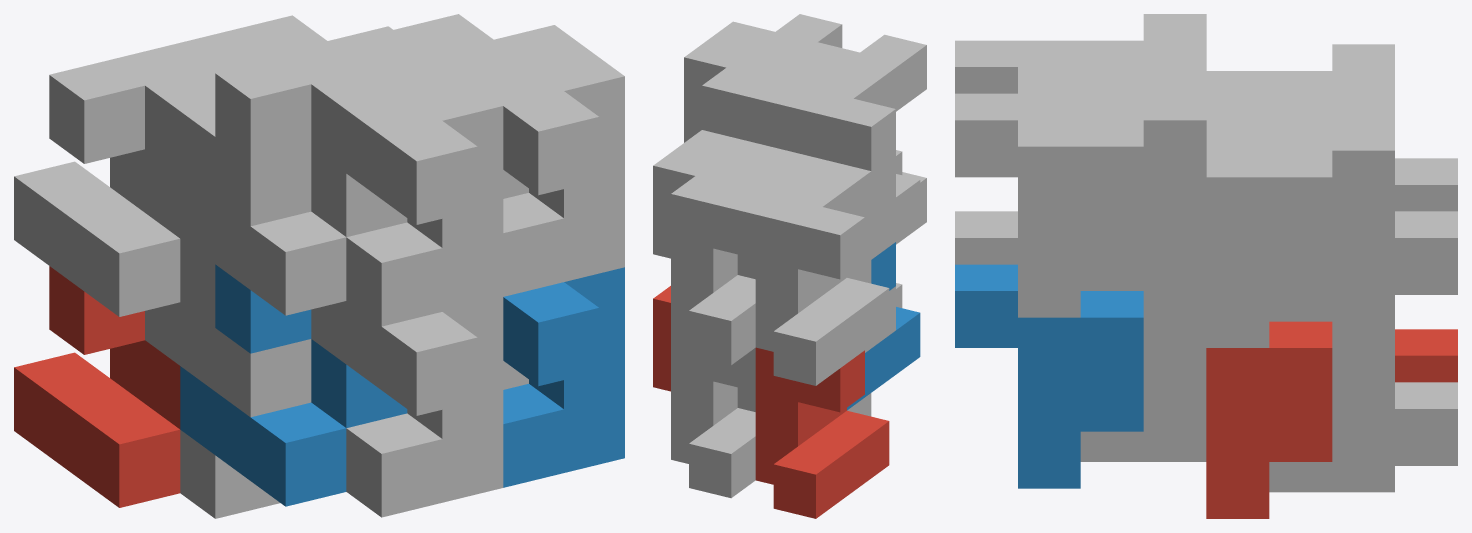
File: tiling.obj
The picture shows the model from 3 angles, left to right: view 1: azimuth 30°, elevation 25°; view 2: azimuth 150°, elevation 25°; view 3: azimuth 270°, elevation 25°; orthographic projection. The views are drawn at different scales.
Visible parts, largest first — view 1: copy_2_domain_4, copy_2_domain_8, copy_1_domain_3, copy_2_domain_2, copy_1_domain_4, copy_1_domain_1, copy_2_domain_6, copy_1_domain_2, copy_2_domain_3, copy_2_domain_1, copy_1_domain_8, copy_1_domain_7; view 2: copy_1_domain_3, copy_1_domain_1, copy_1_domain_7, copy_1_domain_5, copy_1_domain_4, copy_2_domain_4, copy_2_domain_8, copy_2_domain_3, copy_2_domain_7, copy_1_domain_8, copy_1_domain_2, copy_2_domain_5 (+2 smaller); view 3: copy_2_domain_8, copy_2_domain_6, copy_2_domain_7, copy_1_domain_7, copy_2_domain_5, copy_1_domain_5, copy_1_domain_8, copy_1_domain_6, copy_2_domain_4, copy_1_domain_3, copy_2_domain_3, copy_1_domain_1 (+2 smaller).
Part boxes in pixels (bbox=[...]): copy_2_domain_4: bbox=[311, 54, 503, 326]; copy_2_domain_8: bbox=[433, 25, 624, 296]; copy_1_domain_3: bbox=[14, 45, 205, 316]; copy_2_domain_2: bbox=[311, 297, 503, 517]; copy_1_domain_4: bbox=[180, 43, 407, 315]; copy_1_domain_1: bbox=[14, 266, 180, 507]; copy_2_domain_6: bbox=[503, 267, 624, 487]; copy_1_domain_2: bbox=[180, 264, 407, 506]; copy_2_domain_3: bbox=[145, 56, 311, 327]; copy_2_domain_1: bbox=[145, 302, 311, 518]; copy_1_domain_8: bbox=[337, 14, 528, 198]; copy_1_domain_7: bbox=[171, 15, 326, 70]; copy_1_domain_3: bbox=[755, 196, 889, 385]; copy_1_domain_1: bbox=[755, 347, 889, 518]; copy_1_domain_7: bbox=[671, 176, 779, 365]; copy_1_domain_5: bbox=[671, 327, 755, 498]; copy_1_domain_4: bbox=[786, 88, 920, 277]; copy_2_domain_4: bbox=[769, 34, 926, 174]; copy_2_domain_8: bbox=[684, 14, 842, 142]; copy_2_domain_3: bbox=[737, 150, 895, 283]; copy_2_domain_7: bbox=[653, 130, 786, 258]; copy_1_domain_8: bbox=[702, 67, 810, 150]; copy_1_domain_2: bbox=[847, 242, 920, 410]; copy_2_domain_5: bbox=[653, 286, 670, 391]; copy_2_domain_8: bbox=[955, 93, 1143, 317]; copy_2_domain_6: bbox=[955, 264, 1143, 488]; copy_2_domain_7: bbox=[1206, 124, 1332, 347]; copy_1_domain_7: bbox=[1269, 97, 1457, 321]; copy_2_domain_5: bbox=[1206, 321, 1332, 518]; copy_1_domain_5: bbox=[1269, 321, 1457, 492]; copy_1_domain_8: bbox=[1080, 67, 1206, 290]; copy_1_domain_6: bbox=[1080, 291, 1206, 461]; copy_2_domain_4: bbox=[955, 40, 1143, 93]; copy_1_domain_3: bbox=[1332, 44, 1457, 211]; copy_2_domain_3: bbox=[1206, 71, 1332, 123]; copy_1_domain_1: bbox=[1395, 329, 1457, 382].
Size of the model in its own units: 6 by 7 by 8.
